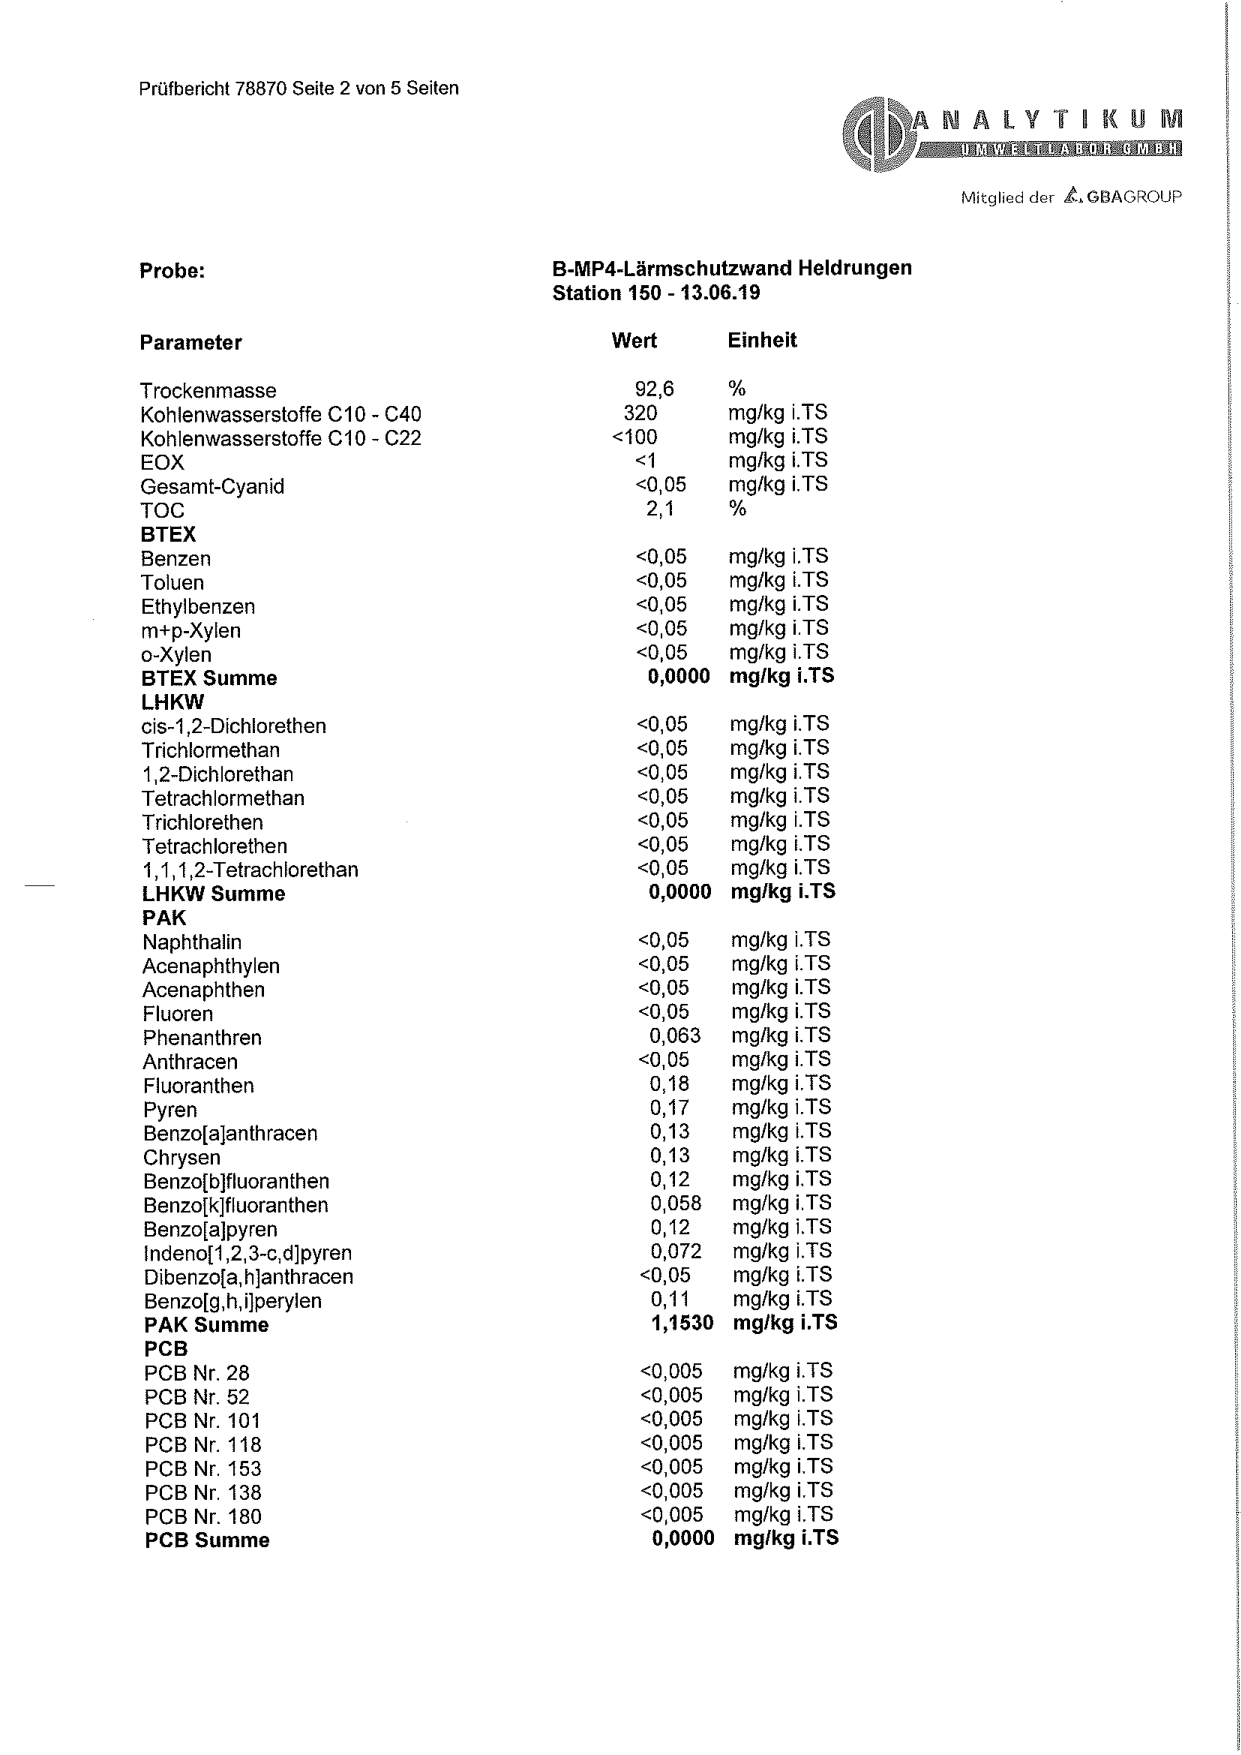table: (136, 328, 866, 1562)
